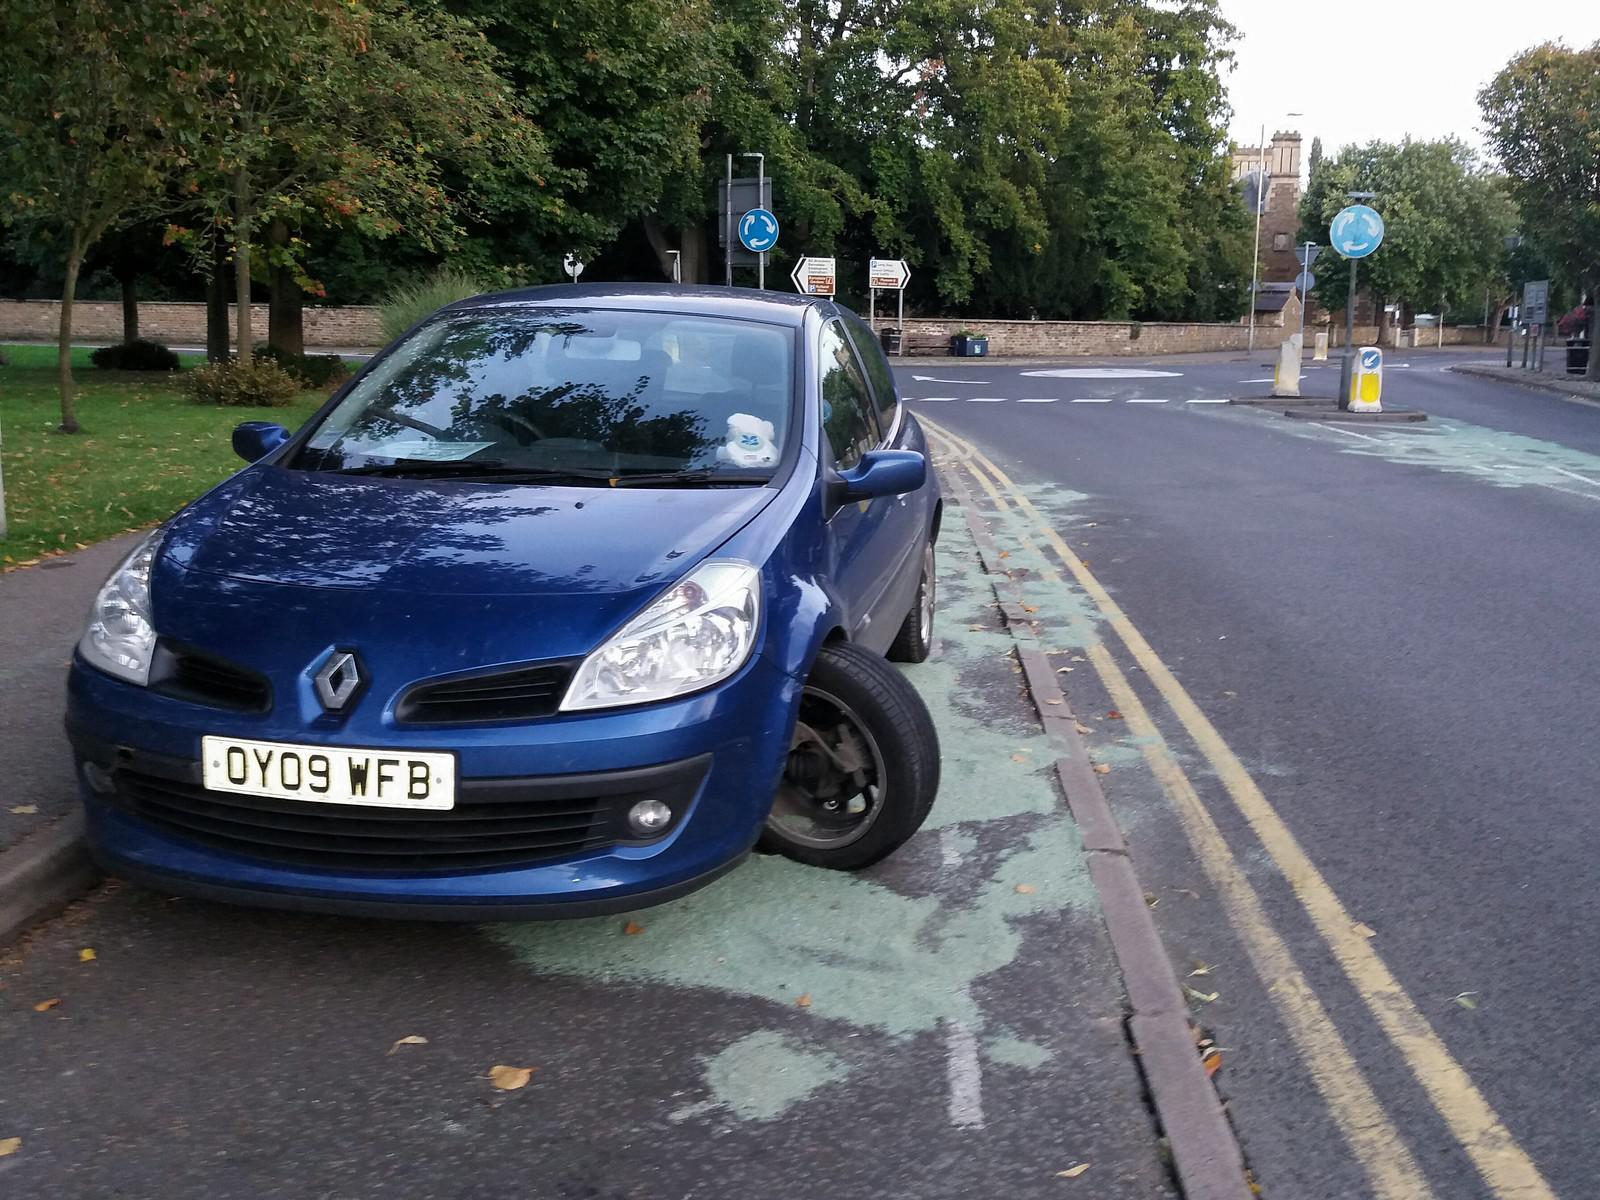fender-dent: (741, 508, 849, 720)
